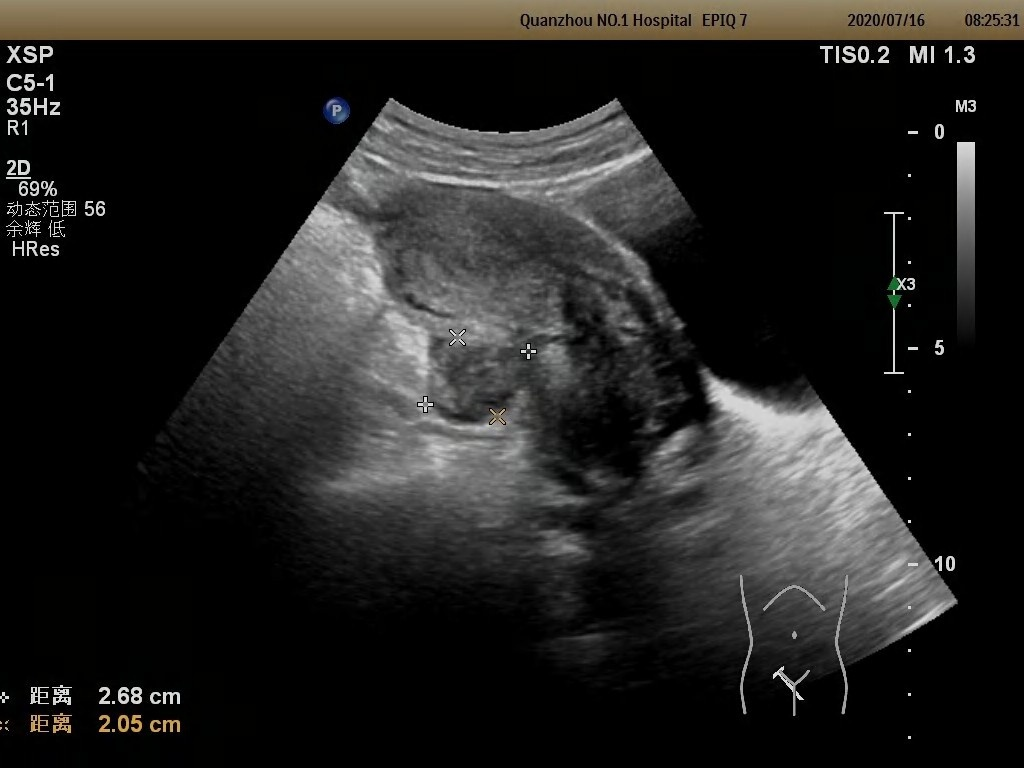肌瘤: (425, 335, 532, 420)
